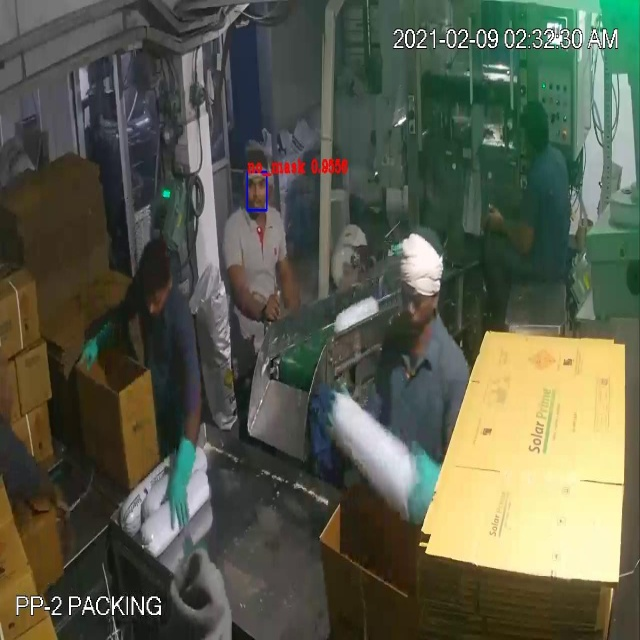Guantes: (148, 410, 204, 540), (75, 317, 133, 381)
Sin_guantes: (481, 182, 542, 269), (223, 250, 282, 338), (271, 236, 308, 316)
